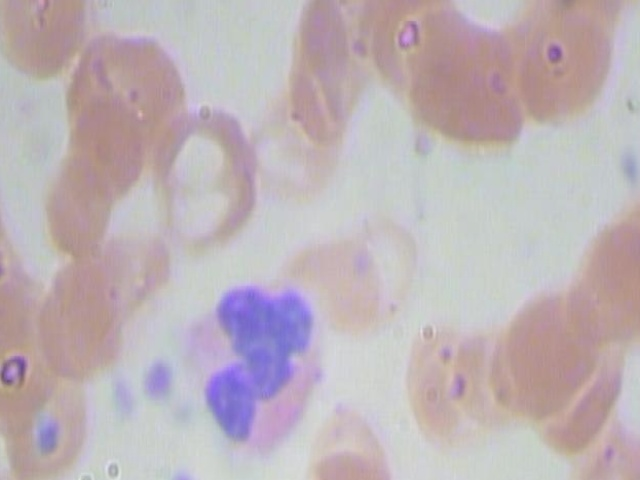Platelets: (100, 365, 139, 430), (139, 345, 178, 409), (165, 451, 204, 480)
RBC: (373, 0, 539, 165), (480, 261, 601, 443), (154, 91, 265, 266), (81, 18, 193, 176), (73, 201, 185, 359), (31, 109, 142, 267), (22, 237, 133, 395), (381, 319, 492, 461), (239, 78, 347, 203), (507, 10, 615, 134), (314, 204, 422, 328), (458, 310, 540, 461), (0, 356, 96, 480), (572, 213, 640, 369), (0, 0, 99, 90), (289, 434, 397, 480), (564, 417, 640, 480)
WBC: (177, 272, 334, 469)
